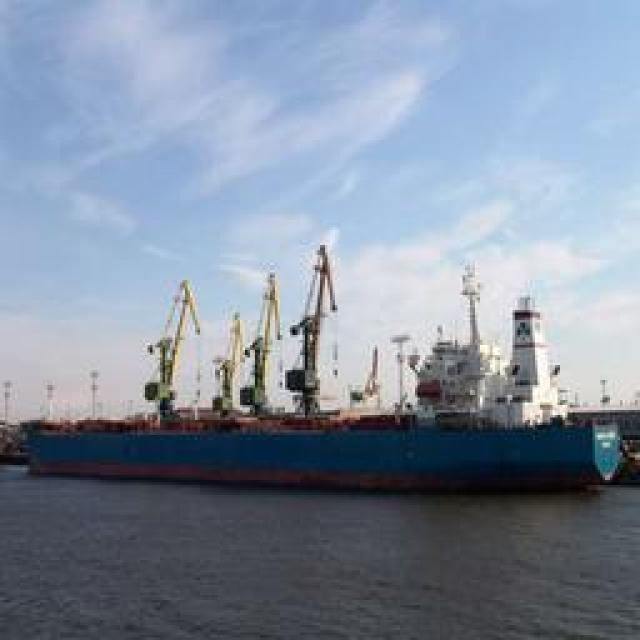Ship: (26, 248, 631, 486)
